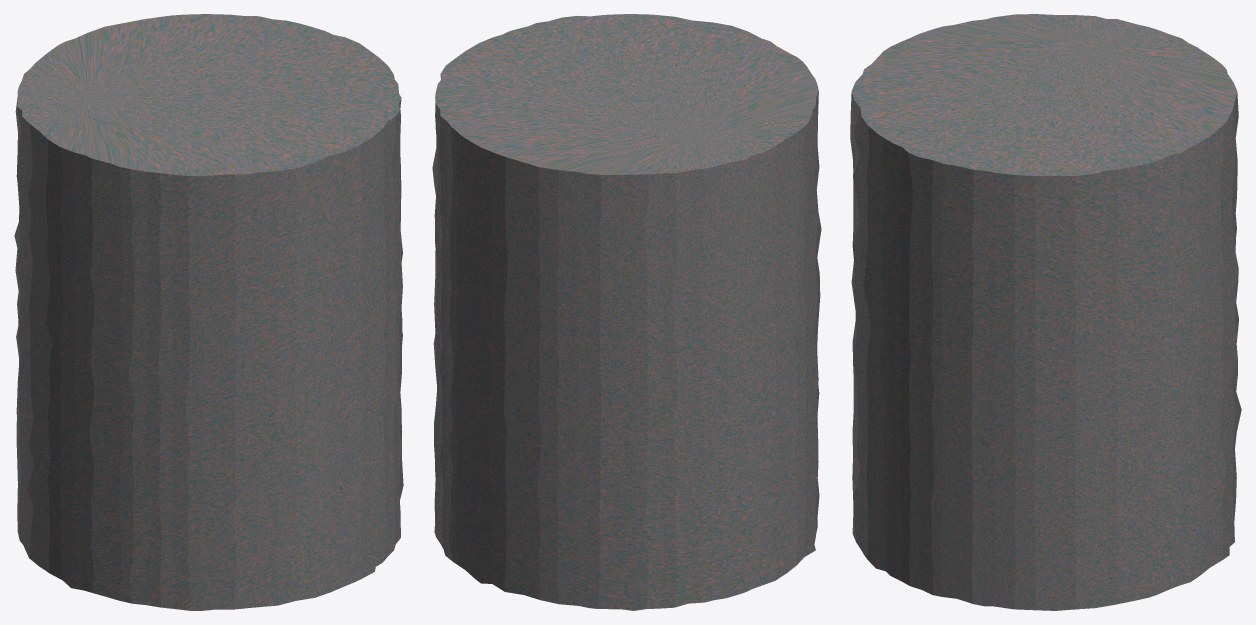
File: barrel_58.dae
3 renders of one model, left to right at view 1: azimuth 30°, elevation 25°; view 2: azimuth 150°, elevation 25°; view 3: azimuth 270°, elevation 25°, orthographic.
Parts seen in each view (by area): view 1: Cylinder; view 2: Cylinder; view 3: Cylinder.
Part boxes in pixels (x1,y1,x2,y2): Cylinder: (14,14,403,610); Cylinder: (432,14,821,610); Cylinder: (850,14,1241,610).
Bounding box in the file's own units: 0.8108 × 0.8174 × 1.
1 material, 1 textured.
